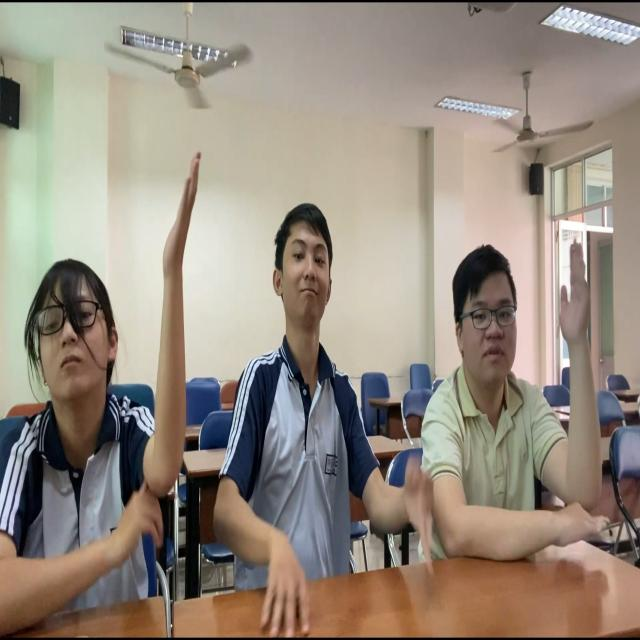raise_hand: (4, 148, 209, 640), (429, 232, 613, 580)
